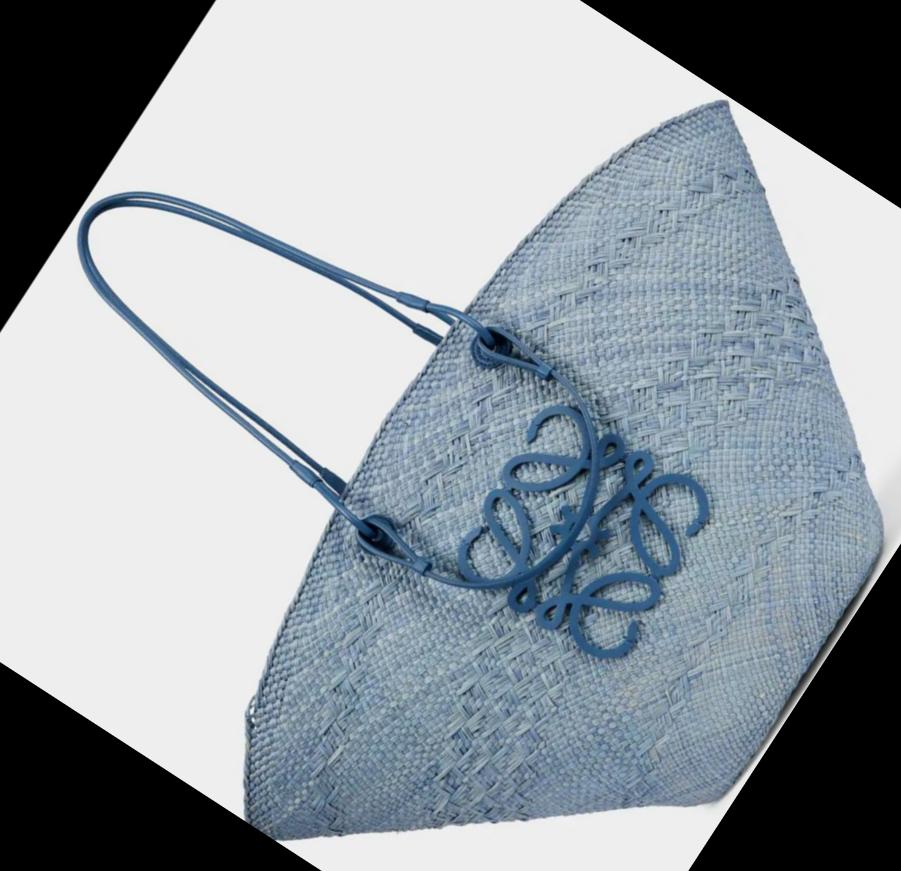LOEWE: (416, 362, 744, 698)
